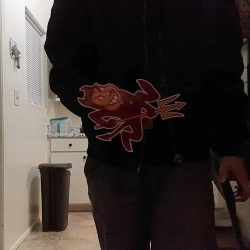sparky: (77, 78, 185, 151)
